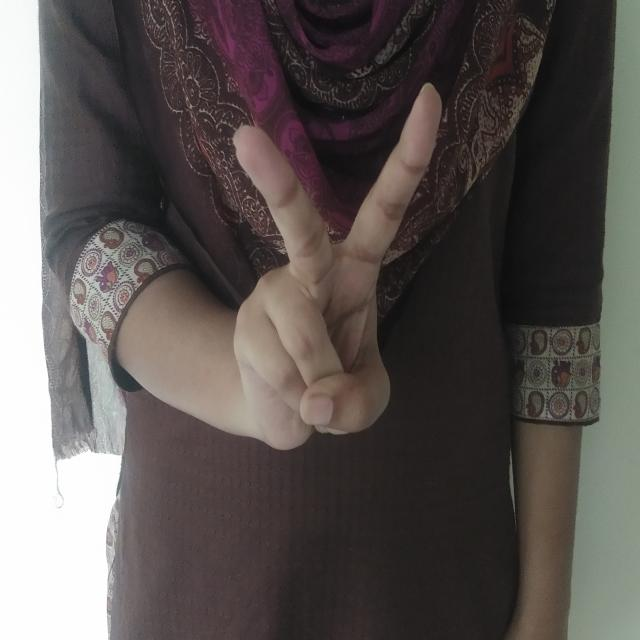V: (202, 80, 454, 493)
